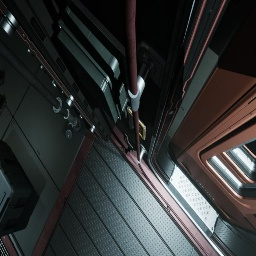EmergencyPhone ,: (124, 103, 148, 140)
